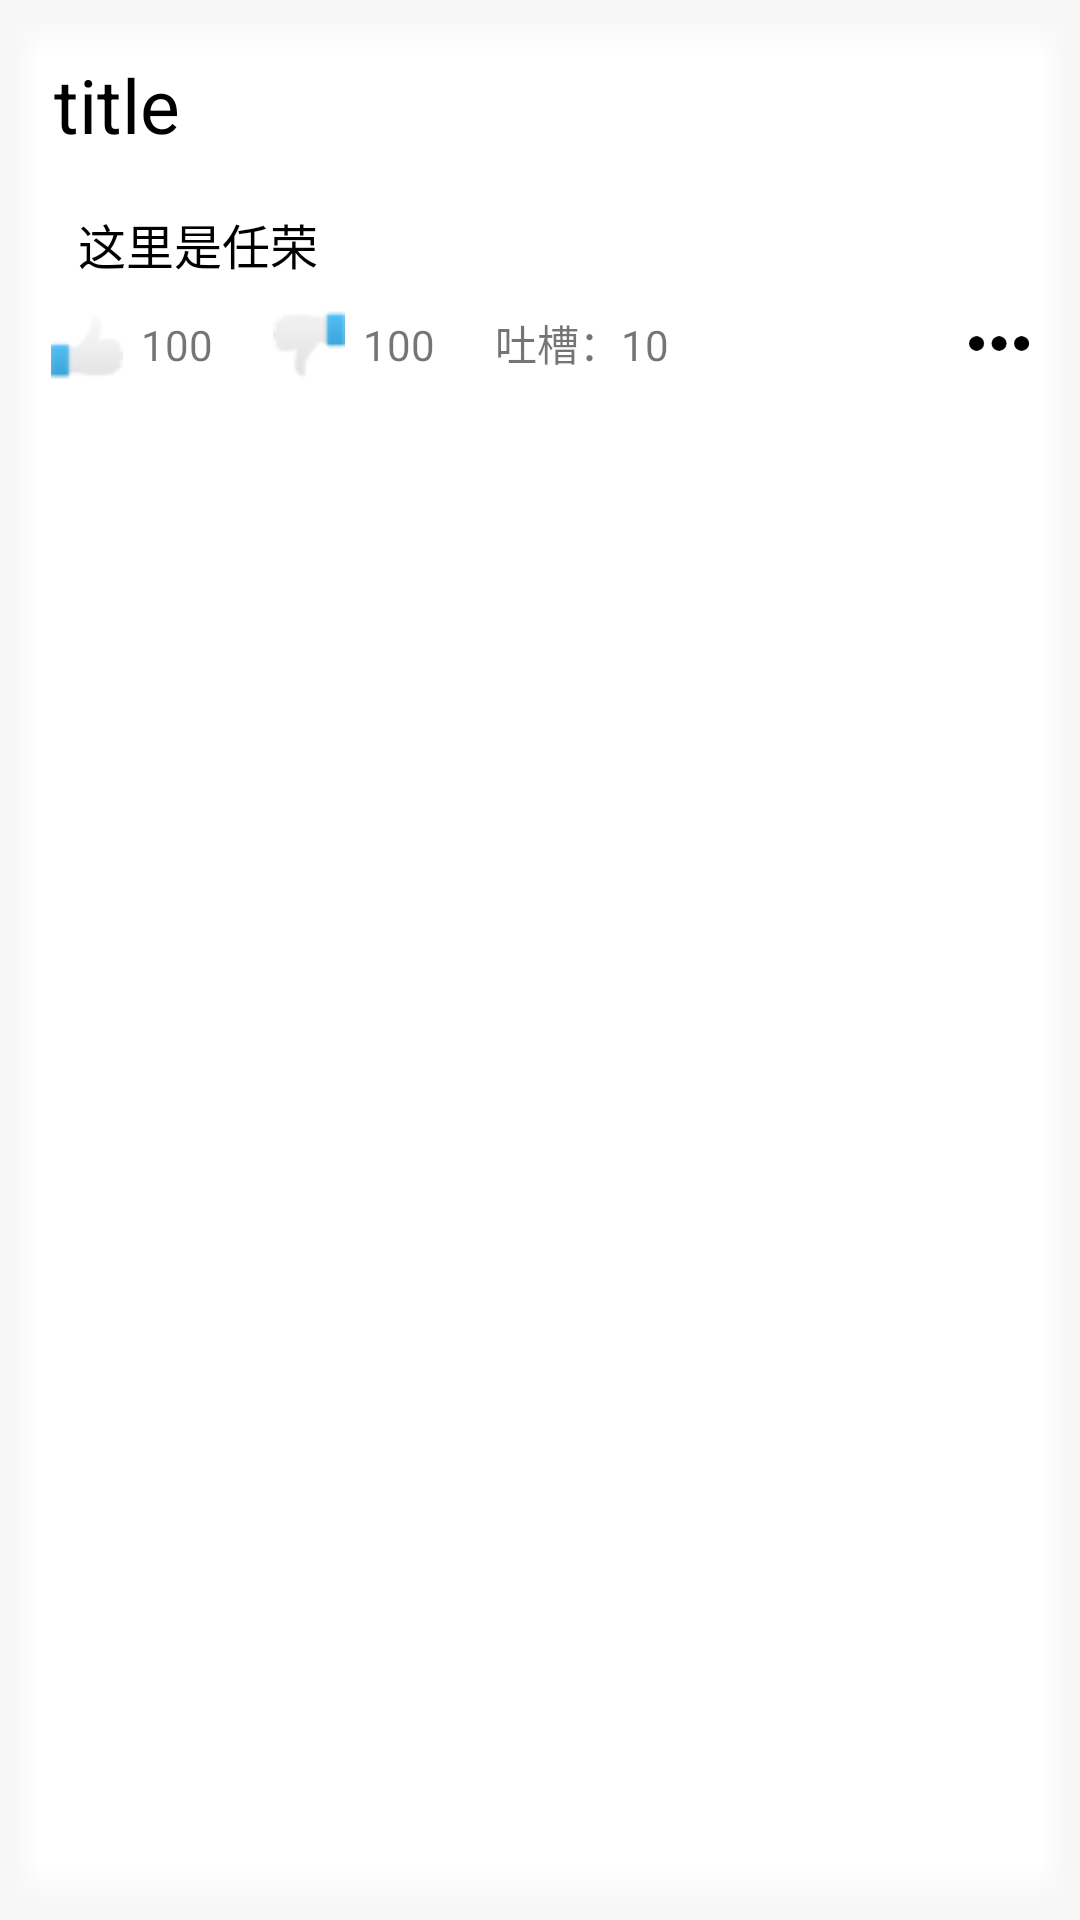

Point at icon controls on the screen. Image size 1080x1920, points as point (x, y).
pic threepoint: point (999, 343)
